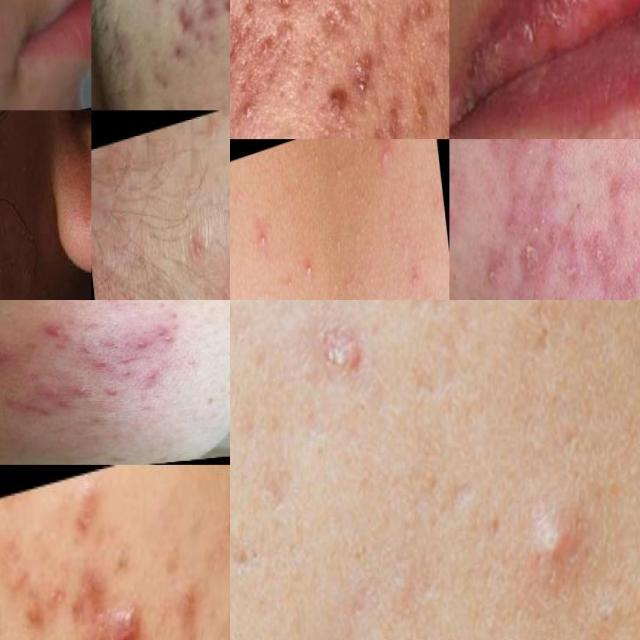acne_scars: (369, 104, 417, 139), (162, 1, 198, 44), (391, 0, 441, 30)
comedone: (395, 240, 431, 300), (236, 88, 270, 138), (294, 242, 325, 290), (376, 139, 400, 173), (253, 218, 274, 254)
cystic: (96, 591, 145, 640)
papule: (597, 144, 640, 218), (1, 394, 36, 415), (134, 366, 168, 387), (70, 385, 101, 402), (150, 324, 175, 345), (47, 396, 81, 411), (42, 325, 72, 341), (38, 384, 62, 399), (100, 389, 121, 405), (34, 403, 55, 419), (127, 338, 151, 351), (90, 358, 112, 372), (0, 348, 12, 371), (116, 368, 134, 378)
pustule: (527, 518, 588, 585)
sebo-crystan-conglo: (335, 42, 387, 112), (479, 240, 517, 300)
